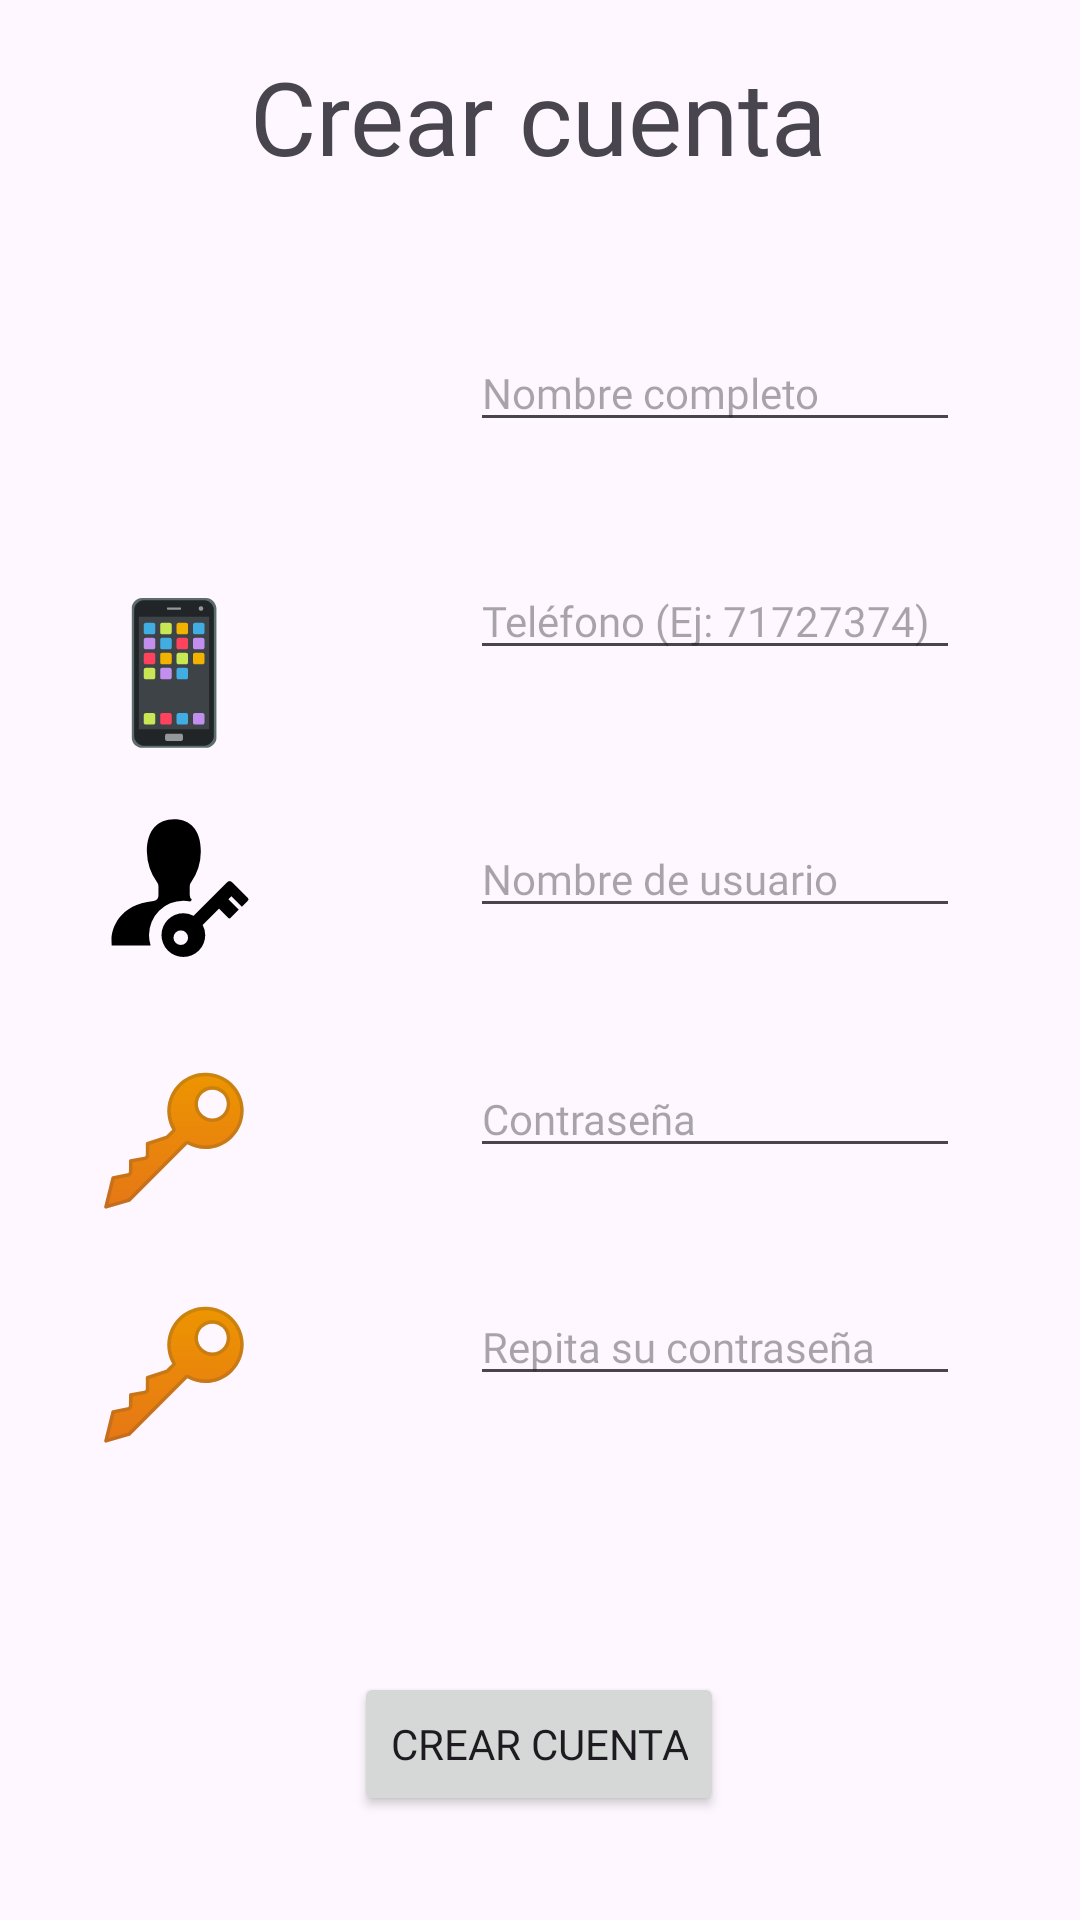

Named icons in this screenshot (1080 × 1920) and their centers, [x,y]:
key: [174,1140], [174,1374]
login: [180,888]
mobile phone: [174,673]
